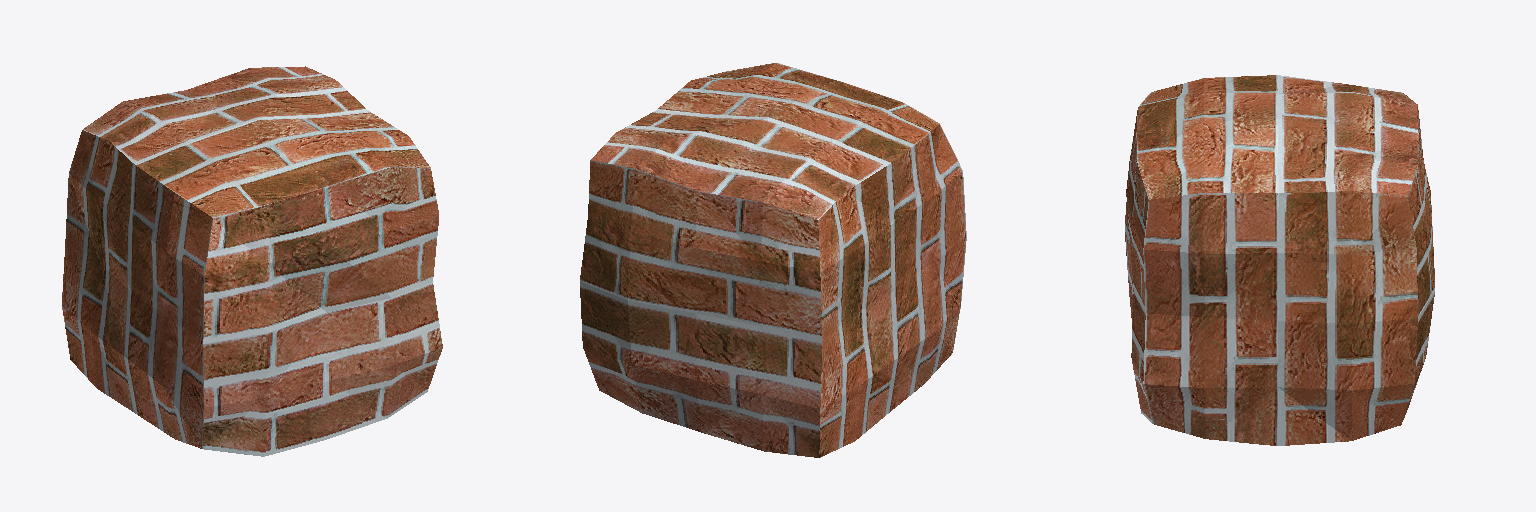
3 renders of one model, left to right at view 1: azimuth 30°, elevation 25°; view 2: azimuth 150°, elevation 25°; view 3: azimuth 270°, elevation 25°, orthographic.
Parts seen in each view (by area): view 1: mur1; view 2: mur1; view 3: mur1.
Part boxes in pixels (x1,y1,x2,y2): mur1: (62, 66, 442, 456); mur1: (580, 63, 966, 457); mur1: (1125, 75, 1434, 445).
Bounding box in the file's own units: 0.583 × 0.5834 × 0.5998.
1 materials, 1 textured.